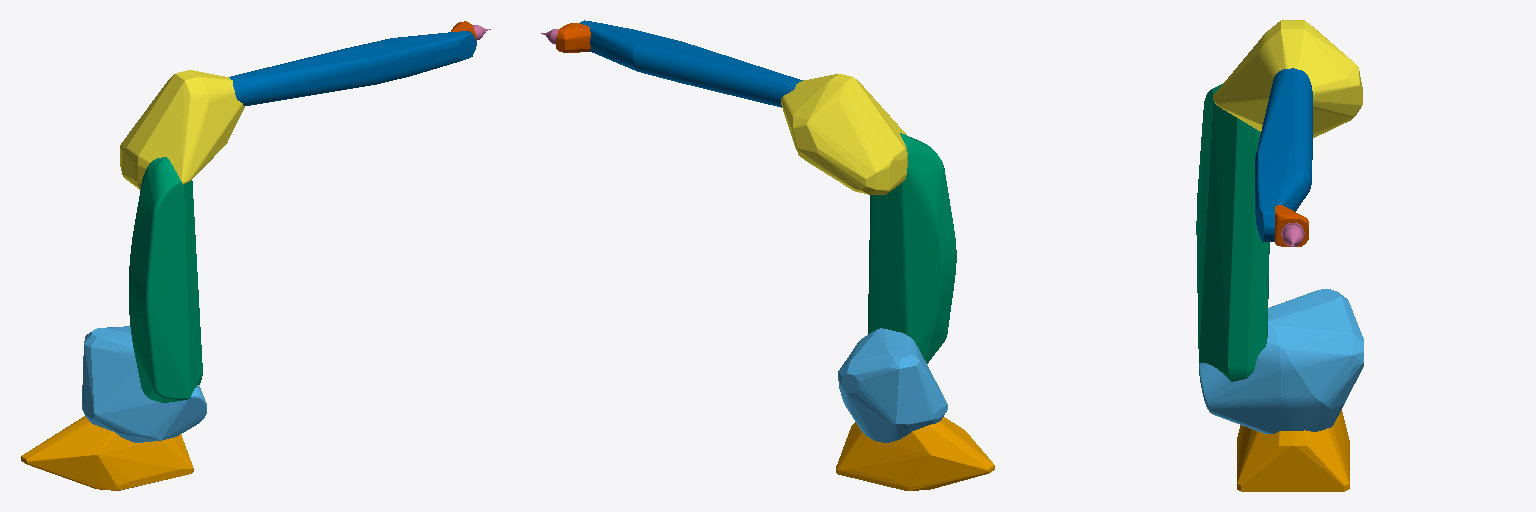
The robot description file, URDF, robot "m20_12_23d":
<?xml version="1.0" encoding="utf-8"?>
<robot name="m20_12_23d">
  <link name="robot_base">
    <inertial>
      <origin xyz="-0.0767 0.00288 0.109" rpy="0 0 0"/>
      <mass value="45.29999924"/>
      <inertia ixx="0.49199841" ixy="-0.02862792" ixz="-0.01379419" iyy="1.09001514" iyz="-0.00130208" izz="1.14998641"/>
    </inertial>
    <visual name="mesh">
      <origin xyz="0 0 0" rpy="1.57078722 0 0"/>
      <geometry>
        <mesh filename="./meshes/mesh.obj"/>
      </geometry>
    </visual>
    <visual name="mesh">
      <geometry>
        <mesh filename="./meshes/mesh_1.obj"/>
      </geometry>
    </visual>
    <collision name="mesh">
      <geometry>
        <mesh filename="./meshes/mesh_1.obj"/>
      </geometry>
    </collision>
  </link>
  <link name="J1_link">
    <inertial>
      <origin xyz="0.0158 -0.0106 -0.0831" rpy="0 0 0"/>
      <mass value="62.20000076"/>
      <inertia ixx="1.30833293" ixy="-0.14263932" ixz="0.08087417" iyy="1.08485072" iyz="-0.02539546" izz="1.32681639"/>
    </inertial>
    <visual name="mesh">
      <origin xyz="0 0 0" rpy="1.57078722 0 0"/>
      <geometry>
        <mesh filename="./meshes/mesh_2.obj"/>
      </geometry>
    </visual>
    <visual name="mesh">
      <geometry>
        <mesh filename="./meshes/mesh_3.obj"/>
      </geometry>
    </visual>
    <collision name="mesh">
      <geometry>
        <mesh filename="./meshes/mesh_3.obj"/>
      </geometry>
    </collision>
  </link>
  <link name="J2_link">
    <inertial>
      <origin xyz="-0.0343 -0.17200001 0.38" rpy="0 0 0"/>
      <mass value="65.09999847"/>
      <inertia ixx="4.81040551" ixy="0.08089478" ixz="0.01447015" iyy="4.92961327" iyz="0.12379621" izz="0.52998144"/>
    </inertial>
    <visual name="mesh">
      <origin xyz="0 0 0" rpy="1.57078722 0 0"/>
      <geometry>
        <mesh filename="./meshes/mesh_4.obj"/>
      </geometry>
    </visual>
    <visual name="mesh">
      <geometry>
        <mesh filename="./meshes/mesh_5.obj"/>
      </geometry>
    </visual>
    <collision name="mesh">
      <geometry>
        <mesh filename="./meshes/mesh_5.obj"/>
      </geometry>
    </collision>
  </link>
  <link name="J3_link">
    <inertial>
      <origin xyz="0.134 0.00796 0.103" rpy="0 0 0"/>
      <mass value="52.29999924"/>
      <inertia ixx="0.88815777" ixy="0.00928429" ixz="0.29699207" iyy="1.13689901" iyz="-0.04287706" izz="1.03694326"/>
    </inertial>
    <visual name="mesh">
      <origin xyz="0 0 0" rpy="1.57078722 0 0"/>
      <geometry>
        <mesh filename="./meshes/mesh_6.obj"/>
      </geometry>
    </visual>
    <visual name="mesh">
      <geometry>
        <mesh filename="./meshes/mesh_7.obj"/>
      </geometry>
    </visual>
    <collision name="mesh">
      <geometry>
        <mesh filename="./meshes/mesh_7.obj"/>
      </geometry>
    </collision>
  </link>
  <link name="J4_link">
    <inertial>
      <origin xyz="0.82700002 -0.0285 -0.00109" rpy="0 0 0"/>
      <mass value="23.5"/>
      <inertia ixx="0.06769974" ixy="-0.11198575" ixz="0.00288628" iyy="1.86000175" iyz="0.00079799" izz="1.87999842"/>
    </inertial>
    <visual name="mesh">
      <origin xyz="0 0 -0.00000003" rpy="-1.57080543 0 0"/>
      <geometry>
        <mesh filename="./meshes/mesh_8.obj"/>
      </geometry>
    </visual>
    <visual name="mesh">
      <geometry>
        <mesh filename="./meshes/mesh_9.obj"/>
      </geometry>
    </visual>
    <collision name="mesh">
      <geometry>
        <mesh filename="./meshes/mesh_9.obj"/>
      </geometry>
    </collision>
  </link>
  <link name="J5_link">
    <inertial>
      <origin xyz="0.0214 -0.015 0" rpy="0 0 0"/>
      <mass value="1.25999999"/>
      <inertia ixx="0.00187" ixy="0.000425" ixz="0" iyy="0.00207" iyz="0" izz="0.00205"/>
    </inertial>
    <visual name="mesh">
      <origin xyz="0.00000004 0 0" rpy="1.57078722 0 0"/>
      <geometry>
        <mesh filename="./meshes/mesh_10.obj"/>
      </geometry>
    </visual>
    <visual name="mesh">
      <geometry>
        <mesh filename="./meshes/mesh_11.obj"/>
      </geometry>
    </visual>
    <collision name="mesh">
      <geometry>
        <mesh filename="./meshes/mesh_11.obj"/>
      </geometry>
    </collision>
  </link>
  <link name="J6_link">
    <inertial>
      <origin xyz="0.0537 0.00000046 0.00000541" rpy="0 0 0"/>
      <mass value="0.243"/>
      <inertia ixx="0.000142" ixy="-0" ixz="0.00000001" iyy="0.00011" iyz="0" izz="0.00011"/>
    </inertial>
    <visual name="Mesh">
      <geometry>
        <mesh filename="./meshes/Mesh_12.obj"/>
      </geometry>
    </visual>
    <visual name="mesh">
      <origin xyz="0 0 0" rpy="-1.57080543 0 0"/>
      <geometry>
        <mesh filename="./meshes/mesh_13.obj"/>
      </geometry>
    </visual>
    <visual name="mesh">
      <geometry>
        <mesh filename="./meshes/mesh_14.obj"/>
      </geometry>
    </visual>
    <collision name="mesh">
      <geometry>
        <mesh filename="./meshes/mesh_14.obj"/>
      </geometry>
    </collision>
  </link>
  <joint name="J1" type="revolute">
    <origin xyz="0 0 0.42500001" rpy="0 0 0"/>
    <parent link="robot_base"/>
    <child link="J1_link"/>
    <axis xyz="0 0 1"/>
    <limit lower="-3.22885912" upper="3.22885912" velocity="3.66519116"/>
    <dynamics friction="0"/>
    <!-- isaac:source_drive {"armature": 0.0, "drive": {"damping": 100.0, "max_force": 7000.0, "stiffness": 2500.0, "target_position": 0.0}, "instance": "angular", "source": "physx"} -->
  </joint>
  <joint name="J2" type="revolute">
    <origin xyz="0.075 0 0" rpy="0 0 0"/>
    <parent link="J1_link"/>
    <child link="J2_link"/>
    <axis xyz="0 1 0"/>
    <limit lower="-1.74532912" upper="2.79252654" velocity="3.66519116"/>
    <dynamics friction="0"/>
    <!-- isaac:source_drive {"armature": 0.0, "drive": {"damping": 100.0, "max_force": 8000.0, "stiffness": 2500.0, "target_position": 0.0}, "instance": "angular", "source": "physx"} -->
  </joint>
  <joint name="J3" type="revolute">
    <origin xyz="0 0 0.83999997" rpy="0 0 0"/>
    <parent link="J2_link"/>
    <child link="J3_link"/>
    <axis xyz="0 -1 0"/>
    <limit lower="-1.57079633" upper="3.83972409" velocity="4.62512252"/>
    <dynamics friction="0"/>
    <!-- isaac:source_drive {"armature": 0.0, "drive": {"damping": 100.0, "max_force": 4000.0, "stiffness": 2500.0, "target_position": 0.0}, "instance": "angular", "source": "physx"} -->
  </joint>
  <joint name="J4" type="revolute">
    <origin xyz="0 0 0.215" rpy="-3.14159265 0 0"/>
    <parent link="J3_link"/>
    <child link="J4_link"/>
    <axis xyz="-1 0 0"/>
    <limit lower="-3.49065824" upper="3.49065824" velocity="7.33038233"/>
    <dynamics friction="0"/>
    <!-- isaac:source_drive {"armature": 0.0, "drive": {"damping": 100.0, "max_force": 100.0, "stiffness": 2500.0, "target_position": 0.0}, "instance": "angular", "source": "physx"} -->
  </joint>
  <joint name="J5" type="revolute">
    <origin xyz="1.34000003 0 -0.00000003" rpy="3.14159265 0 0"/>
    <parent link="J4_link"/>
    <child link="J5_link"/>
    <axis xyz="0 -1 0"/>
    <limit lower="-3.14157481" upper="3.14157481" velocity="7.8539811"/>
    <dynamics friction="0"/>
    <!-- isaac:source_drive {"armature": 0.0, "drive": {"damping": 100.0, "max_force": 100.0, "stiffness": 2500.0, "target_position": 0.0}, "instance": "angular", "source": "physx"} -->
  </joint>
  <joint name="J6" type="revolute">
    <origin xyz="0.00000004 0 0" rpy="-3.14159265 0 0"/>
    <parent link="J5_link"/>
    <child link="J6_link"/>
    <axis xyz="-1 0 0"/>
    <limit lower="-7.8539811" upper="7.8539811" velocity="12.56637061"/>
    <dynamics friction="0"/>
    <!-- isaac:source_drive {"armature": 0.0, "drive": {"damping": 100.0, "max_force": 50.0, "stiffness": 2500.0, "target_position": 3.0}, "instance": "angular", "source": "physx"} -->
  </joint>
</robot>

--- What the picture shows (computed from the rendered views, not written in the file) ---
The picture shows the robot from 3 angles, left to right: view 1: azimuth 30°, elevation 25°; view 2: azimuth 150°, elevation 25°; view 3: azimuth 270°, elevation 25°; orthographic projection.
Robot: m20_12_23d — 7 links, 6 joints (6 revolute); root link robot_base; default pose: all joints at 0.
Links seen in each view (by area): view 1: J2_link, J4_link, J3_link, J1_link, robot_base; view 2: J2_link, J3_link, J1_link, J4_link, robot_base, J5_link; view 3: J2_link, J1_link, J3_link, J4_link, robot_base, J5_link.
Link boxes in pixels (bbox=[...]): J2_link: bbox=[129, 157, 202, 402]; J4_link: bbox=[229, 31, 476, 105]; J3_link: bbox=[120, 70, 244, 189]; J1_link: bbox=[82, 326, 206, 442]; robot_base: bbox=[21, 416, 193, 490]; J2_link: bbox=[868, 133, 956, 363]; J3_link: bbox=[781, 74, 907, 194]; J1_link: bbox=[838, 328, 947, 442]; J4_link: bbox=[580, 20, 802, 107]; robot_base: bbox=[836, 417, 994, 490]; J5_link: bbox=[556, 23, 590, 52]; J2_link: bbox=[1196, 84, 1269, 381]; J1_link: bbox=[1199, 289, 1363, 433]; J3_link: bbox=[1213, 20, 1362, 137]; J4_link: bbox=[1255, 68, 1312, 241]; robot_base: bbox=[1237, 410, 1349, 491]; J5_link: bbox=[1275, 205, 1308, 246].
Size in the robot's own frame: 2.04 by 0.5089 by 1.6 metres.
Meshes: 15 distinct files referenced, 15 mesh visuals loaded (15 OBJ).
